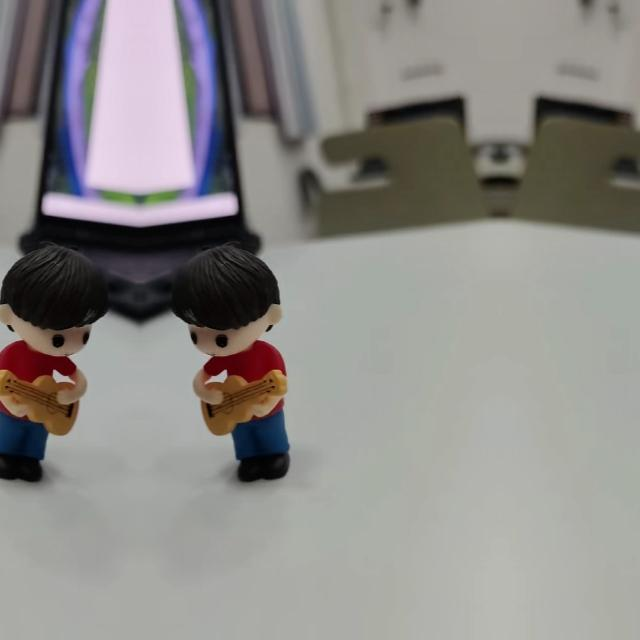man cloth: (198, 349, 294, 396), (0, 349, 81, 396)
man head: (168, 248, 284, 360), (0, 248, 112, 360)
trousers: (220, 406, 300, 496), (0, 406, 59, 496)
